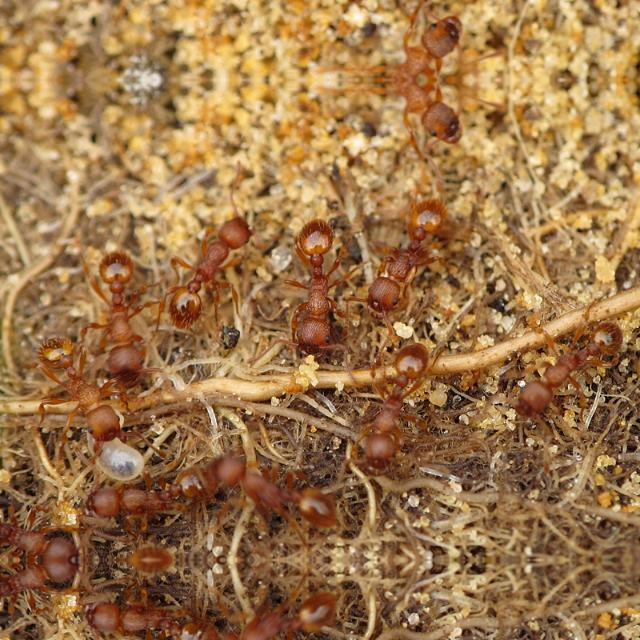Myrmica: (152, 177, 288, 339), (75, 216, 171, 404), (27, 312, 129, 463), (506, 309, 634, 426), (362, 188, 464, 332), (346, 328, 442, 477), (274, 214, 358, 376), (208, 438, 344, 538), (70, 447, 210, 535), (377, 80, 479, 164), (377, 0, 479, 80), (206, 582, 344, 640), (70, 584, 210, 640), (0, 493, 84, 559), (0, 561, 84, 627), (116, 515, 192, 559), (116, 561, 192, 605)
